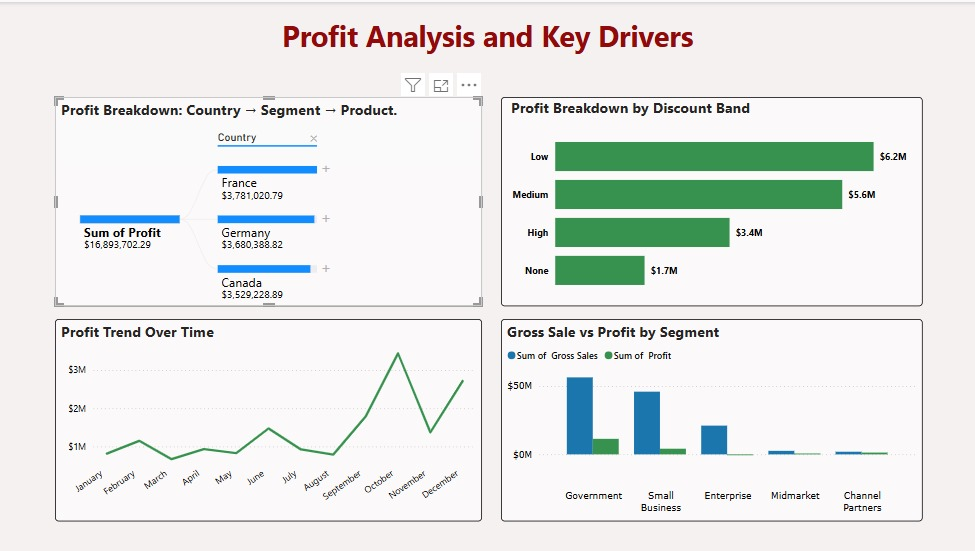

This screenshot's page, from the dashboard's own definition file:
{"tool":"powerbi","page":{"name":"Page 2","canvas":[1280,720],"ordinal":1},"visuals":[{"type":"textbox","box":[10.1,14.4,1258.6,72],"z":0},{"type":"decompositionTreeVisual","title":"Profit Breakdown: Country → Segment → Product.","fields":{"ExplainBy":["Financials.Country","Financials.Segment","Financials.Product"],"Analyze":["Sum(Financials. Profit )"]},"box":[73.4,123.8,558.7,273.6],"z":1000},{"type":"lineChart","title":"Profit Trend Over Time","fields":{"Y":["Sum(Financials. Profit )"],"Category":["Financials. Month Name "]},"box":[73.4,414.7,558.7,265],"z":3000},{"type":"clusteredColumnChart","title":"Gross Sale vs Profit by Segment","fields":{"Y":["Sum(Financials. Gross Sales )","Sum(Financials. Profit )"],"Category":["Financials.Segment"]},"box":[656.6,414.7,551.5,265],"z":4000},{"type":"barChart","title":"Profit Breakdown by Discount Band","fields":{"Y":["Sum(Financials. Profit )"],"Category":["Financials. Discount Band "]},"box":[656.6,123.8,551.5,273.6],"z":5000}]}

Visuals, with their boxes in screenshot pixels (x1, y1, x2, y2), scaled from the page's 1280x720 canvas onto the 975x551 screenshot:
textbox: Rect(8, 11, 966, 66)
"Profit Breakdown: Country → Segment → Product." decompositionTreeVisual: Rect(56, 95, 481, 304)
"Profit Trend Over Time" lineChart: Rect(56, 317, 481, 520)
"Gross Sale vs Profit by Segment" clusteredColumnChart: Rect(500, 317, 920, 520)
"Profit Breakdown by Discount Band" barChart: Rect(500, 95, 920, 304)
